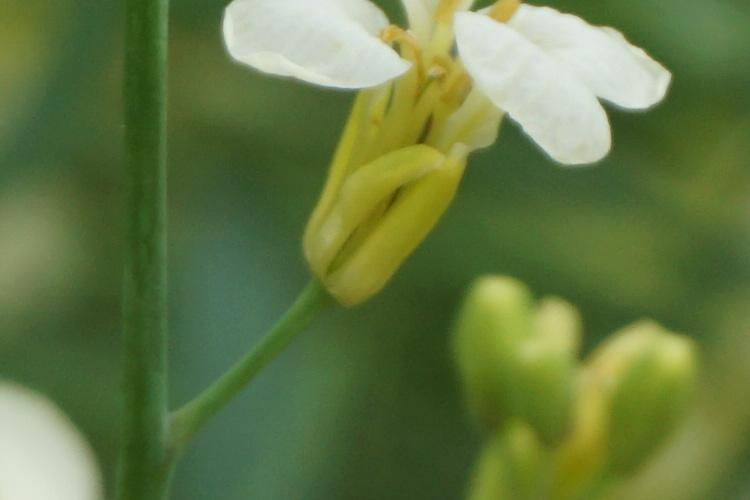white: (223, 6, 678, 280)
